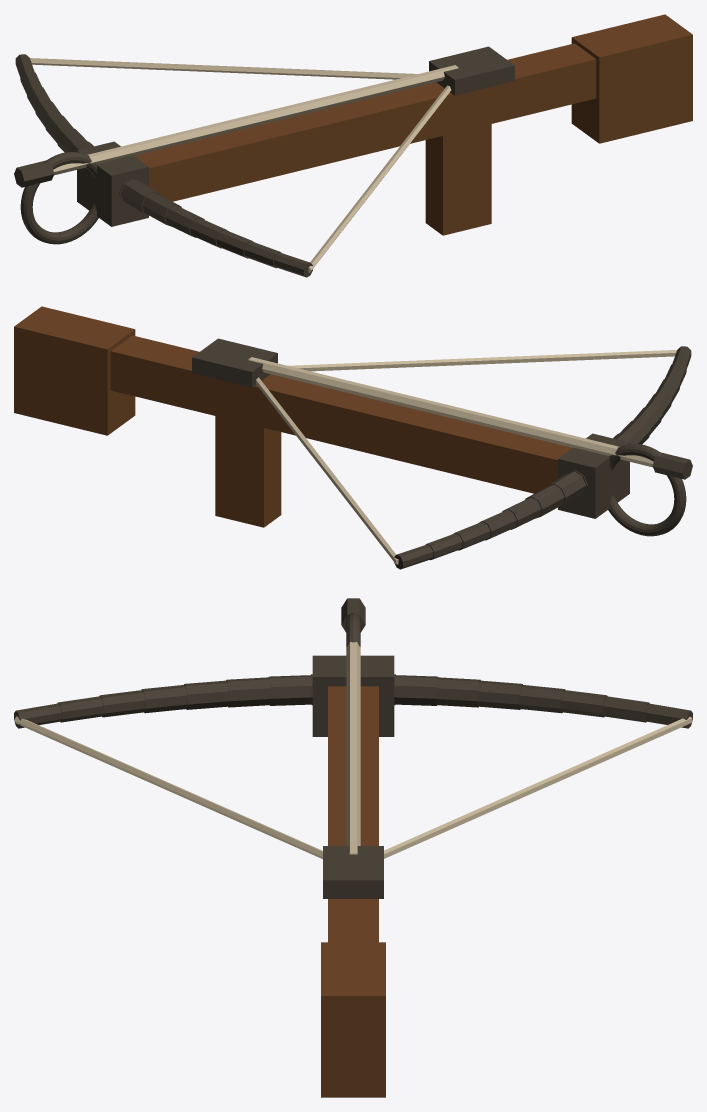
Rendered from armbrust.glb.
The picture shows the model from 3 angles, top to bottom: view 1: azimuth 30°, elevation 25°; view 2: azimuth 150°, elevation 25°; view 3: azimuth 270°, elevation 25°; orthographic projection. The views are drawn at different scales.
Visible parts, largest first — view 1: armbrust; view 2: armbrust; view 3: armbrust.
Boxes of the visible parts, x1=… form: armbrust: x1=14, y1=14, x2=692, y2=277; armbrust: x1=14, y1=306, x2=692, y2=569; armbrust: x1=14, y1=598, x2=692, y2=1097.
Size of the model in its own units: 0.88 by 0.212 by 0.6662.
